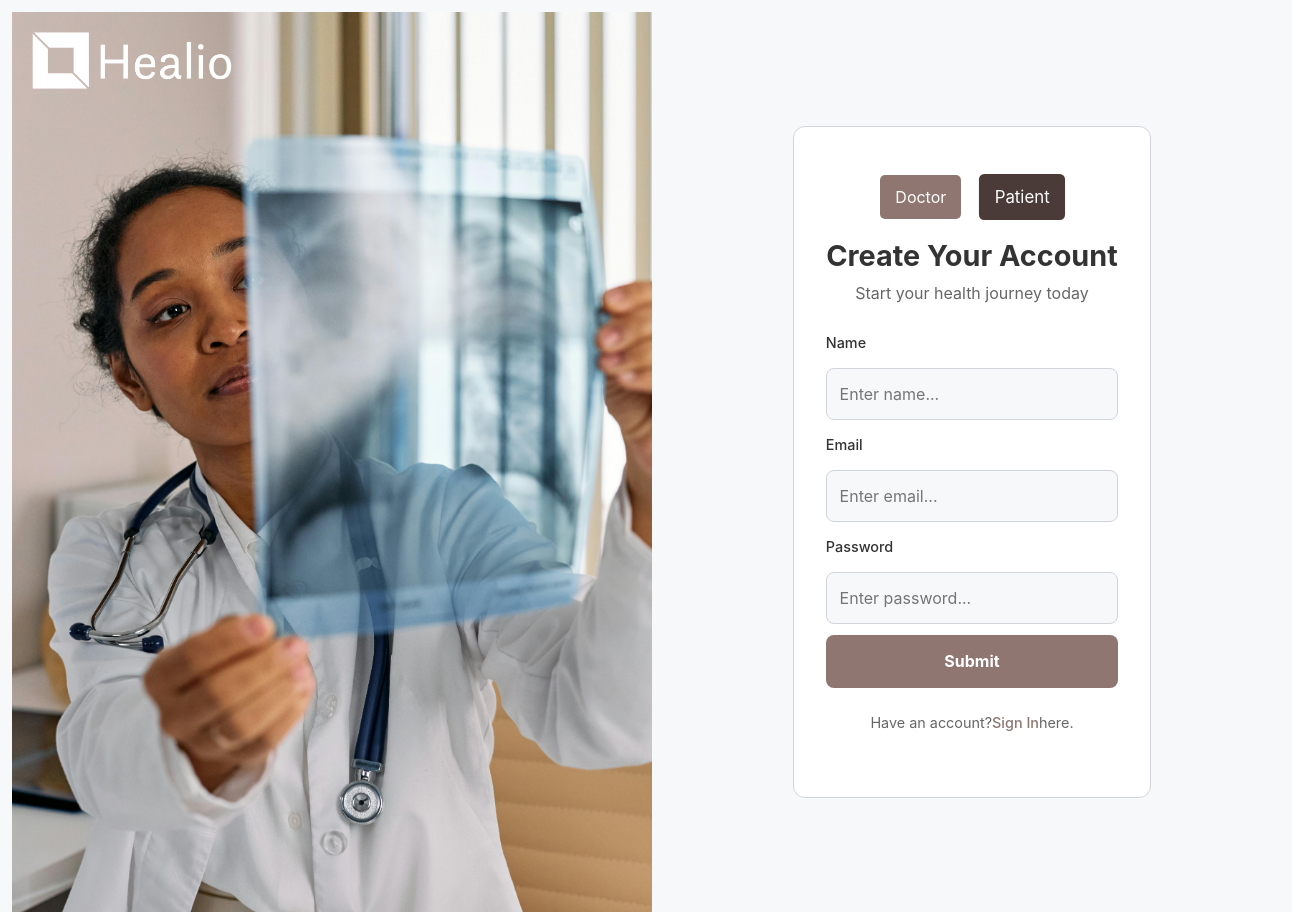
Test: Register › allows switching role to doctor
Click the button "Doctor": (921, 197) [880, 175, 961, 219]
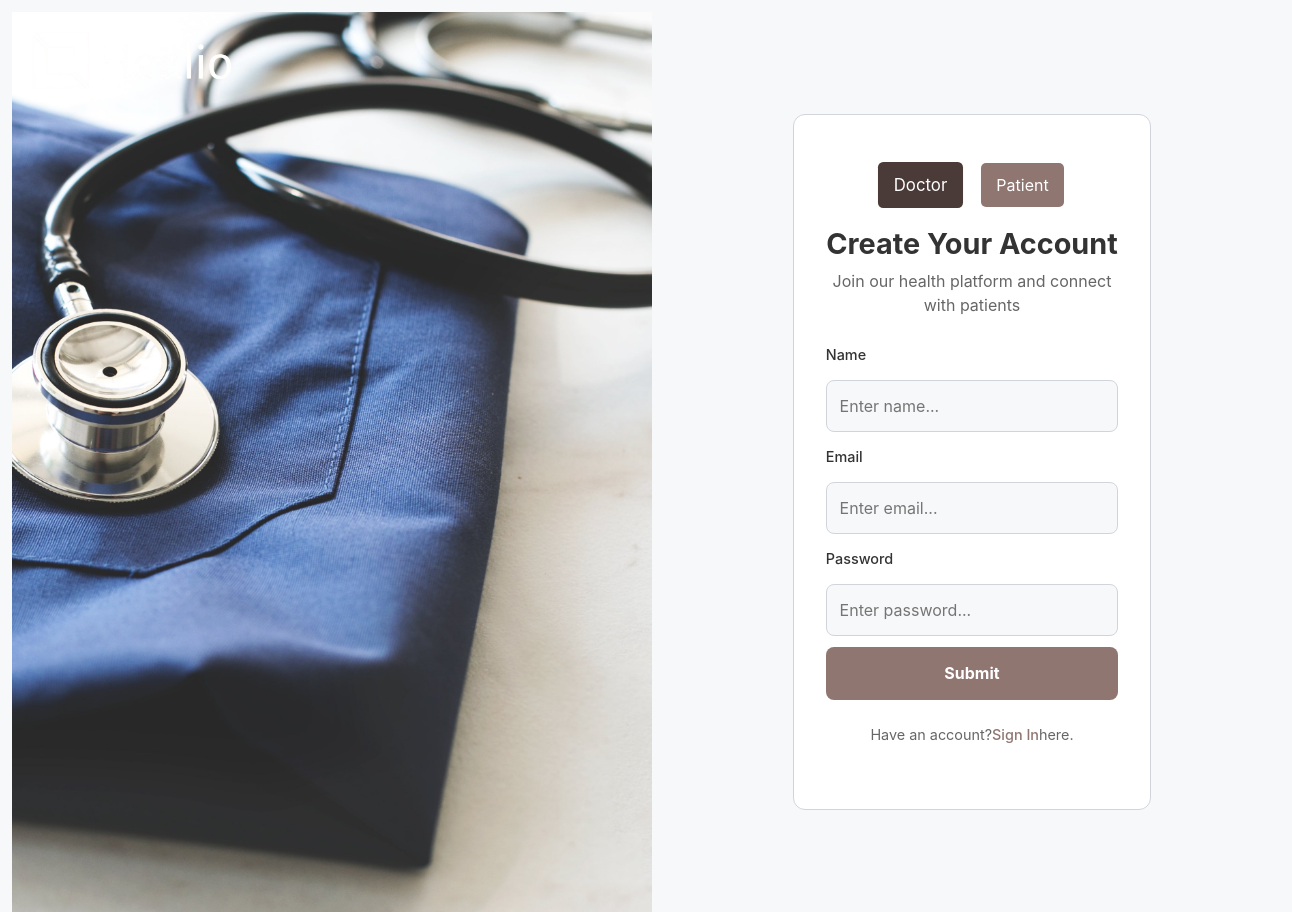
Check: the text "Join our health platform and connect with patients" is shown, box [826, 269, 1118, 317]
Click the button "Patient": (1022, 185) [981, 163, 1064, 207]
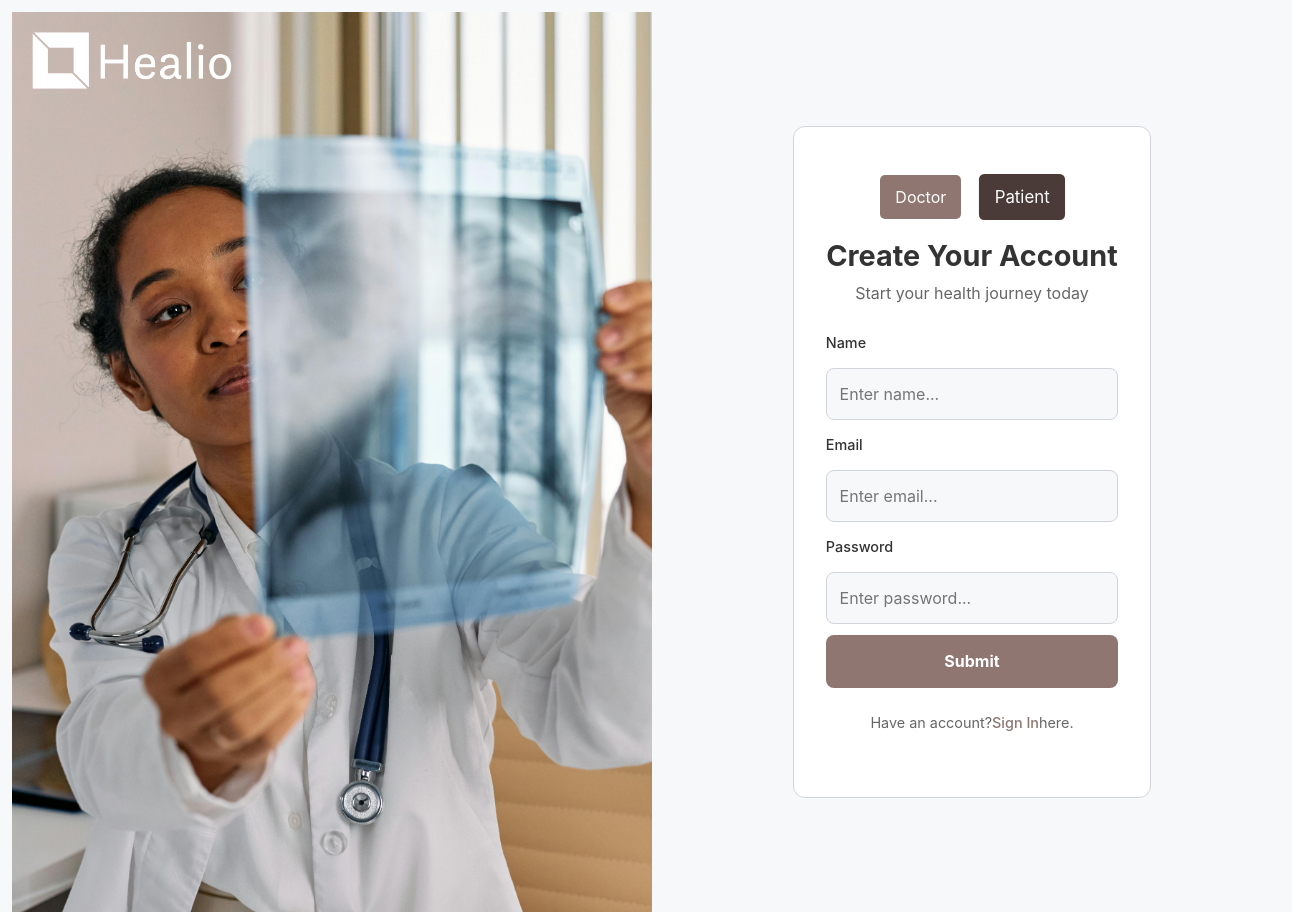
Check: the text "Start your health journey today" is shown, box [855, 283, 1089, 303]
